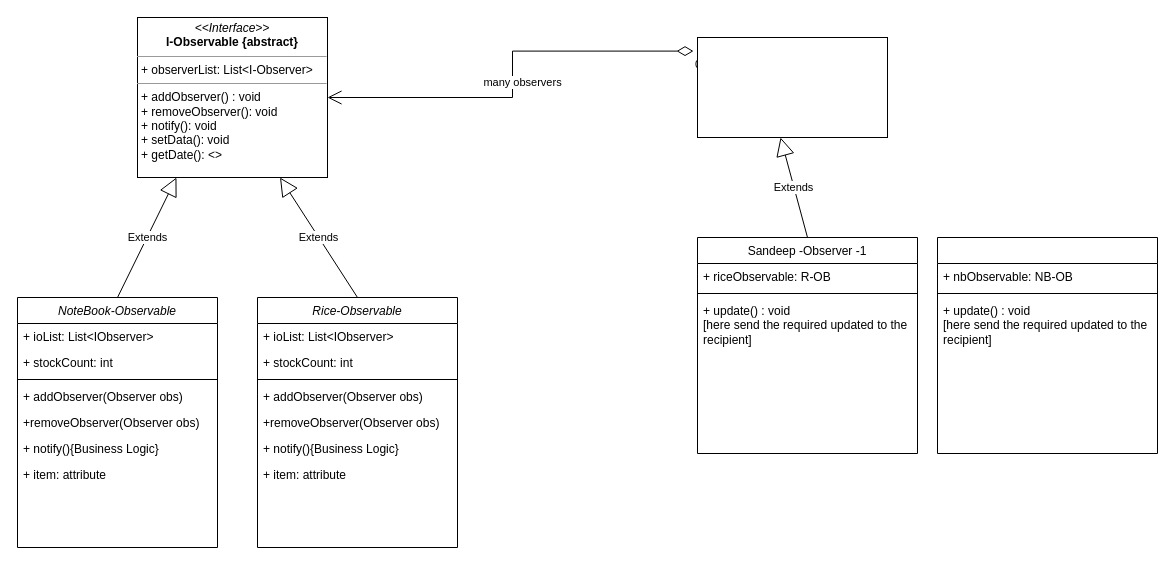
The diagram is 1175 pixels wide and 565 high, and some of its shapes have lost their labels. The shapes that lost their labels are listed below. From the top down, each one's box as (x1, y1, x2, y2) in pixels, then its label:
(696, 36, 888, 138): <<Interface>> I-Observer + update()
(936, 236, 1158, 454): Pranavi -Observer -1
